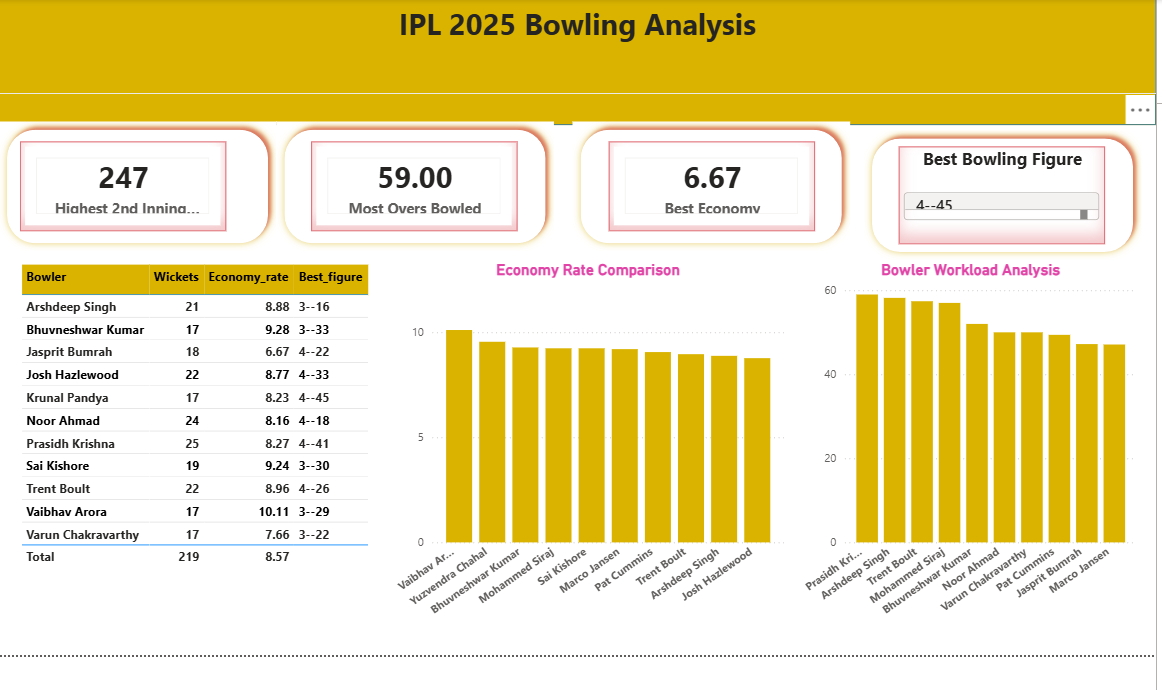

Layout of this report page (visuals, bound fields, positions):
{"tool":"powerbi","page":{"name":"Bowling","canvas":[1280,720],"ordinal":2},"visuals":[{"type":"shape","box":[9.6,0,1270.7,138.6],"z":0},{"type":"textbox","box":[9.3,0,1270.7,104.3],"z":1000},{"type":"shape","box":[9.6,134.5,304.6,142.7],"z":2000},{"type":"shape","box":[314.2,134.5,304.6,142.7],"z":3000},{"type":"shape","box":[639.5,134.5,304.6,142.7],"z":4000},{"type":"shape","box":[959.2,144.1,304.6,142.7],"z":5000},{"type":"cardVisual","fields":{"Data":["ipl_2025 deliveries.Most Wickets"]},"box":[32.9,156.4,226.4,98.8],"z":6000},{"type":"cardVisual","title":"Best Bowling Figure","fields":{"Rows":["purple_cap.Best_bowling_figure"]},"box":[997.6,161.9,226.4,107],"z":7000},{"type":"cardVisual","fields":{"Data":["ipl_2025 deliveries.Best Economy","ipl_2025 deliveries.Best Economy"]},"box":[679.2,156.4,226.4,98.8],"z":8000},{"type":"cardVisual","fields":{"Data":["ipl_2025 deliveries.Most Overs Bowled"]},"box":[352.7,156.4,226.4,98.8],"z":9000},{"type":"tableEx","fields":{"Values":["purple_cap.Bowler","Sum(purple_cap.Wickets)","Avg(purple_cap.Economy_rate)","purple_cap.Best_bowling_figure"]},"box":[28.8,286.8,407.5,358.1],"z":10000},{"type":"clusteredColumnChart","title":"Economy Rate Comparison","fields":{"Category":["purple_cap.Bowler"],"Y":["Sum(purple_cap.Economy_rate)"]},"box":[436.4,286.8,440.5,408.9],"z":11000},{"type":"clusteredColumnChart","title":"Bowler Workload Analysis","fields":{"Category":["purple_cap.Bowler"],"Y":["Sum(purple_cap.Overs)"]},"box":[889.2,286.8,374.6,408.9],"z":12000}]}

Visuals, with their boxes on the page's 1280x720 design canvas (x1, y1, x2, y2). These are canvas units, not pixel positions in the 1162x690 screenshot, which may show the page scaled, cropped or inside an application window:
shape: 10:0:1280:139
textbox: 9:0:1280:104
shape: 10:134:314:277
shape: 314:134:619:277
shape: 640:134:944:277
shape: 959:144:1264:287
cardVisual - ipl_2025 deliveries.Most Wickets: 33:156:259:255
"Best Bowling Figure" cardVisual: 998:162:1224:269
cardVisual - ipl_2025 deliveries.Best Economy x ipl_2025 deliveries.Best Economy: 679:156:906:255
cardVisual - ipl_2025 deliveries.Most Overs Bowled: 353:156:579:255
tableEx - purple_cap.Bowler x Sum(purple_cap.Wickets): 29:287:436:645
"Economy Rate Comparison" clusteredColumnChart: 436:287:877:696
"Bowler Workload Analysis" clusteredColumnChart: 889:287:1264:696
